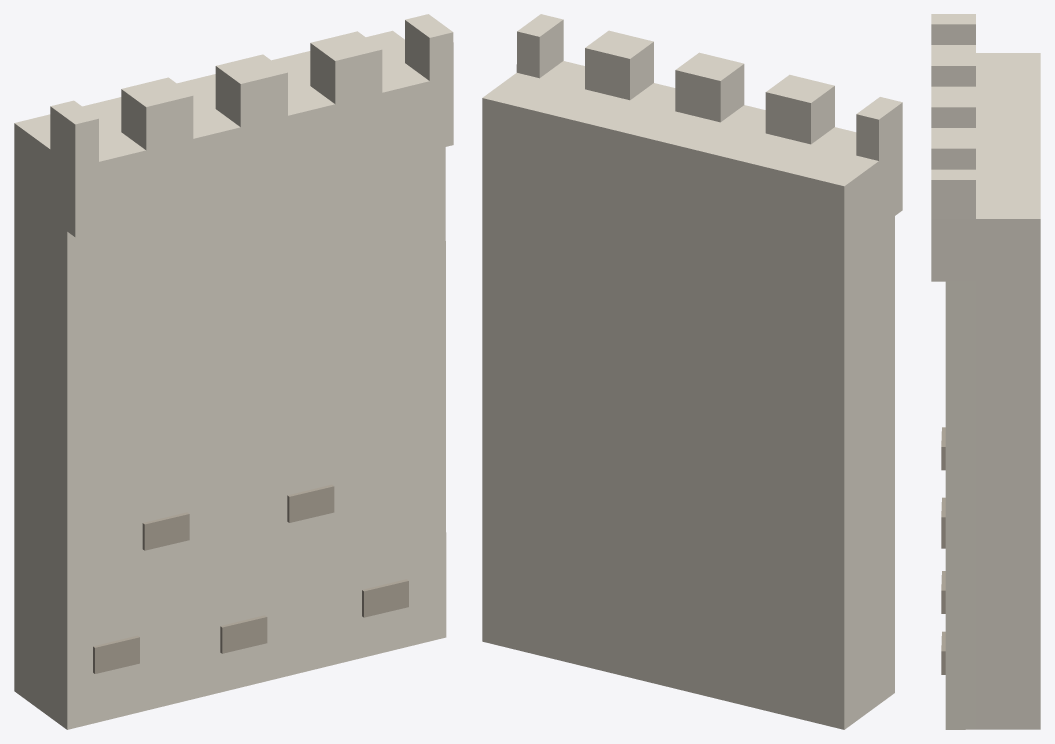
The model's file is tallwallbricks.glb.
3 views of the same model, side by side, from view 1: azimuth 30°, elevation 25°; view 2: azimuth 150°, elevation 25°; view 3: azimuth 270°, elevation 25° (orthographic). The views are drawn at different scales.
Parts seen in each view (by area): view 1: TallWallBricks; view 2: TallWallBricks; view 3: TallWallBricks.
Boxes of the visible parts, bbox=[...] form: TallWallBricks: bbox=[14, 14, 453, 729]; TallWallBricks: bbox=[482, 14, 902, 729]; TallWallBricks: bbox=[931, 14, 1040, 729].
Bounding box in the file's own units: 1.52 × 2.35 × 0.4246.
